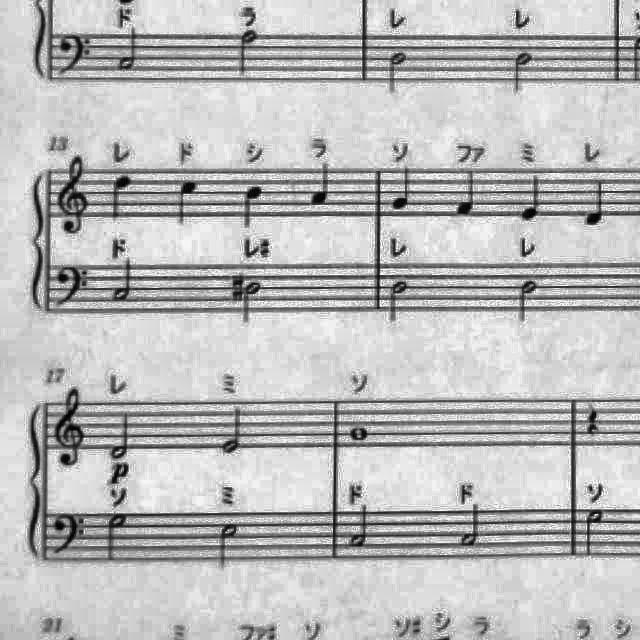Bass-clef: (52, 260, 94, 316), (54, 29, 96, 82), (50, 511, 90, 564)
Diez: (230, 266, 246, 306)
Full-note: (344, 419, 374, 445)
Half-note: (218, 400, 250, 458), (104, 408, 136, 464), (579, 503, 609, 561), (108, 256, 140, 308), (344, 504, 376, 554), (102, 508, 130, 564), (214, 517, 243, 571), (456, 500, 486, 552), (234, 25, 262, 79), (116, 23, 144, 77), (516, 276, 544, 328), (382, 275, 411, 325), (510, 48, 538, 98), (382, 48, 410, 98), (239, 276, 265, 328)
Quarter-note: (173, 173, 203, 227), (582, 177, 612, 231), (238, 180, 268, 233), (108, 168, 136, 224), (518, 170, 546, 226), (309, 160, 339, 212), (388, 162, 416, 214), (454, 166, 482, 218)
Quarter-rest: (581, 400, 611, 440)
Treble-clef: (52, 378, 92, 472), (54, 150, 94, 238)
